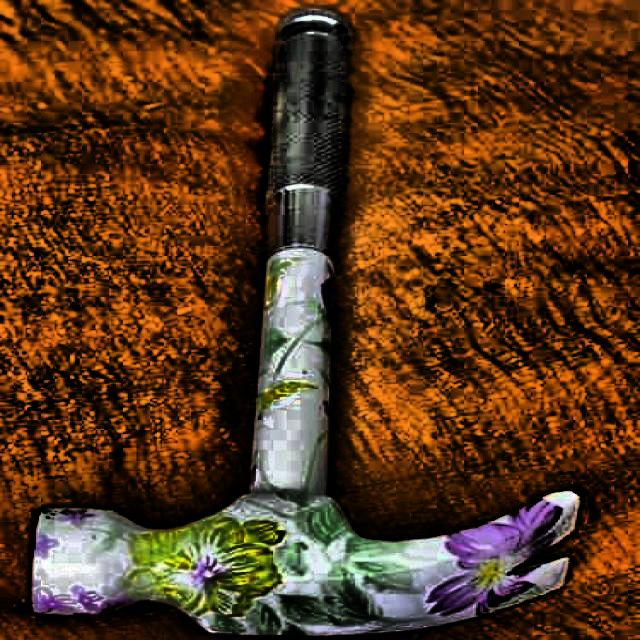hammer: (20, 6, 585, 640)
